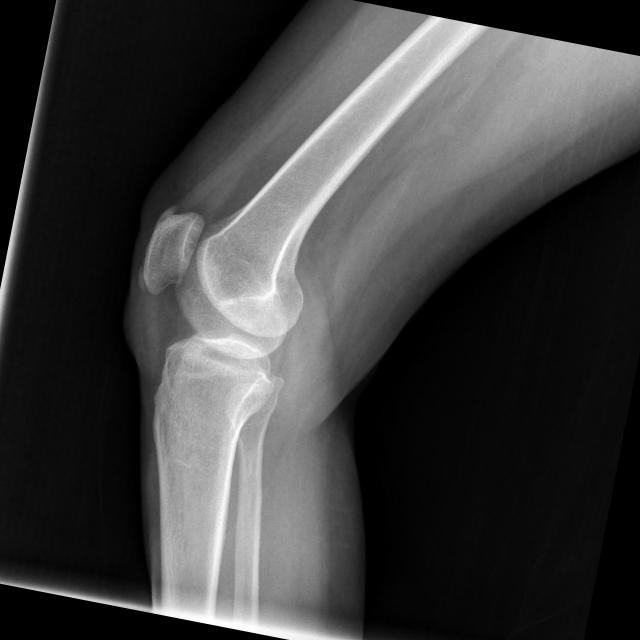Knee: (117, 199, 318, 423)
